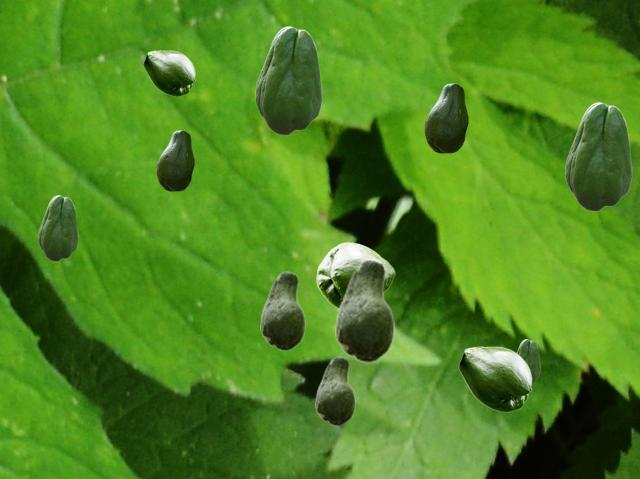sayote: (565, 102, 631, 210), (255, 26, 321, 134), (335, 259, 393, 362), (316, 242, 394, 307), (458, 346, 531, 411), (260, 271, 304, 350), (424, 83, 467, 152), (315, 356, 354, 425), (38, 195, 77, 260), (143, 50, 194, 95), (156, 130, 193, 190), (516, 339, 539, 383)
